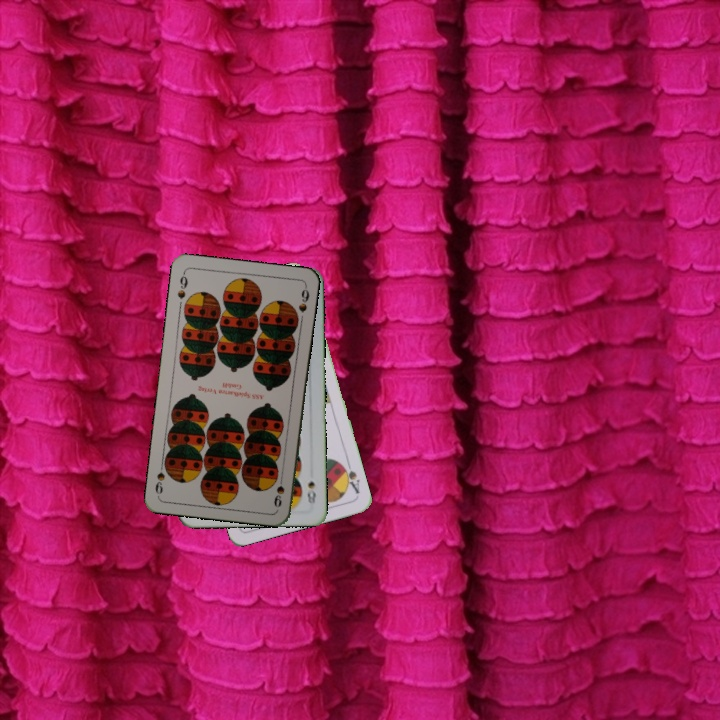S8: (303, 477, 319, 508)
S9: (270, 470, 287, 510), (173, 269, 190, 301)
SA: (337, 458, 362, 496)
